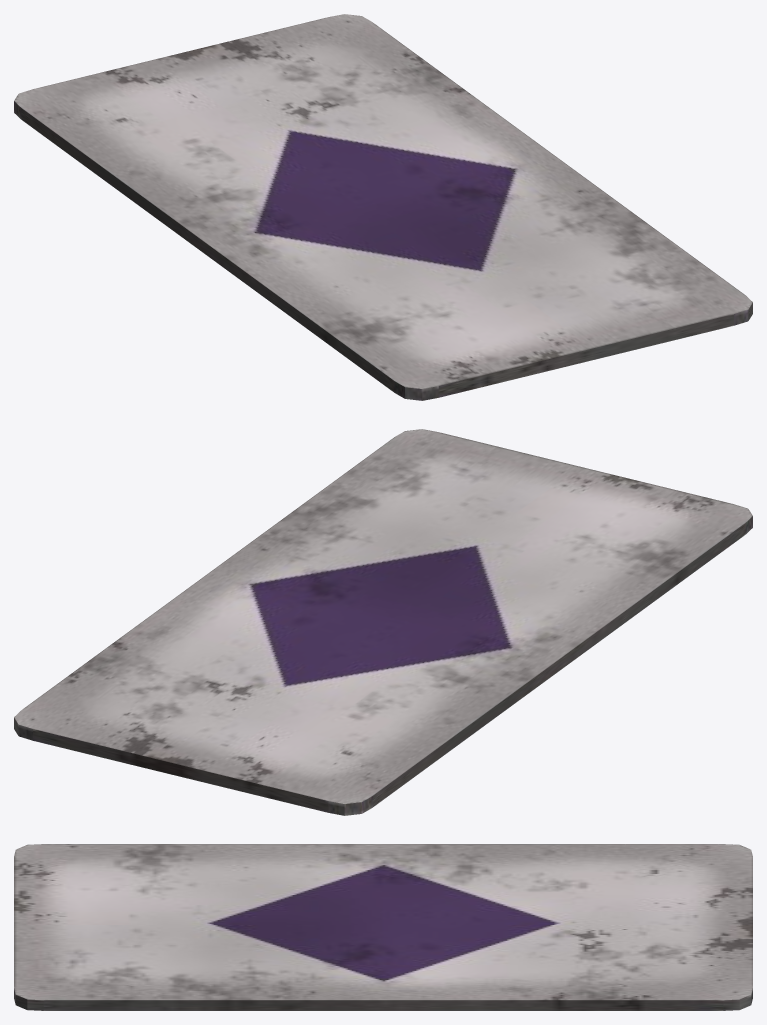
File: Sign_C.fbx
3 renders of one model, top to bottom at view 1: azimuth 30°, elevation 25°; view 2: azimuth 150°, elevation 25°; view 3: azimuth 270°, elevation 25°, orthographic. The views are drawn at different scales.
Visible parts, largest first — view 1: Sign_C; view 2: Sign_C; view 3: Sign_C.
Boxes of the visible parts, x1=… form: Sign_C: x1=14, y1=14, x2=752, y2=400; Sign_C: x1=14, y1=429, x2=752, y2=815; Sign_C: x1=14, y1=844, x2=752, y2=1010.
Bounding box in the file's own units: 25 × 0.8 × 50.
